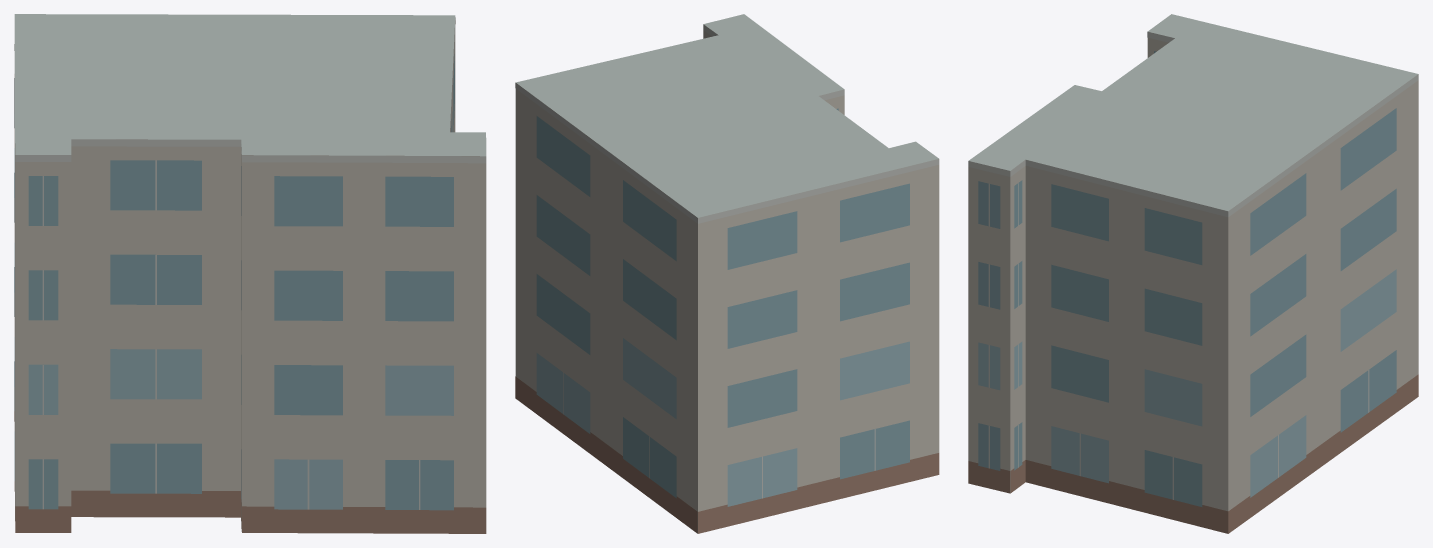
The model's file is survey-upis-32706596.glb.
3 views of the same model, side by side, from view 1: azimuth 30°, elevation 25°; view 2: azimuth 150°, elevation 25°; view 3: azimuth 270°, elevation 25° (orthographic). The views are drawn at different scales.
Parts seen in each view (by area): view 1: survey-upis-32706596.tmp; view 2: survey-upis-32706596.tmp; view 3: survey-upis-32706596.tmp.
Part boxes in pixels (<box>): survey-upis-32706596.tmp: <box>14,14,486,533</box>; survey-upis-32706596.tmp: <box>515,14,939,533</box>; survey-upis-32706596.tmp: <box>968,14,1418,533</box>.
Bounding box in the file's own units: 17.06 × 13 × 16.45.
